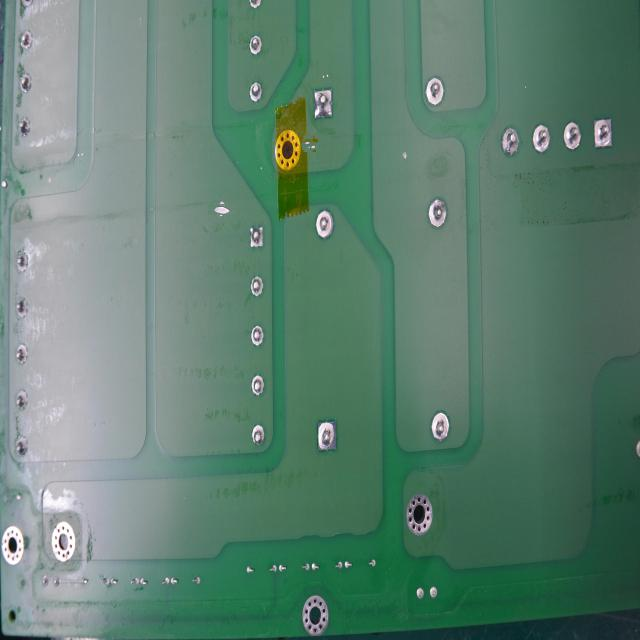spillover: (212, 199, 232, 219), (304, 138, 318, 152), (399, 147, 408, 163)
